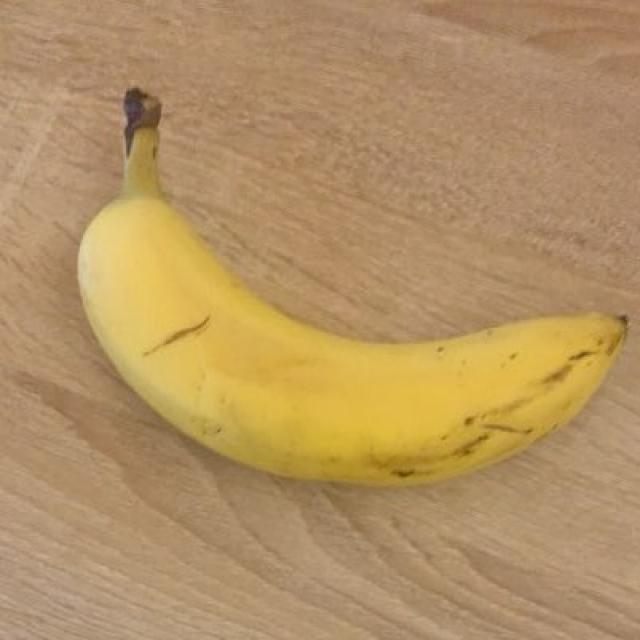banana: (84, 94, 618, 479)
